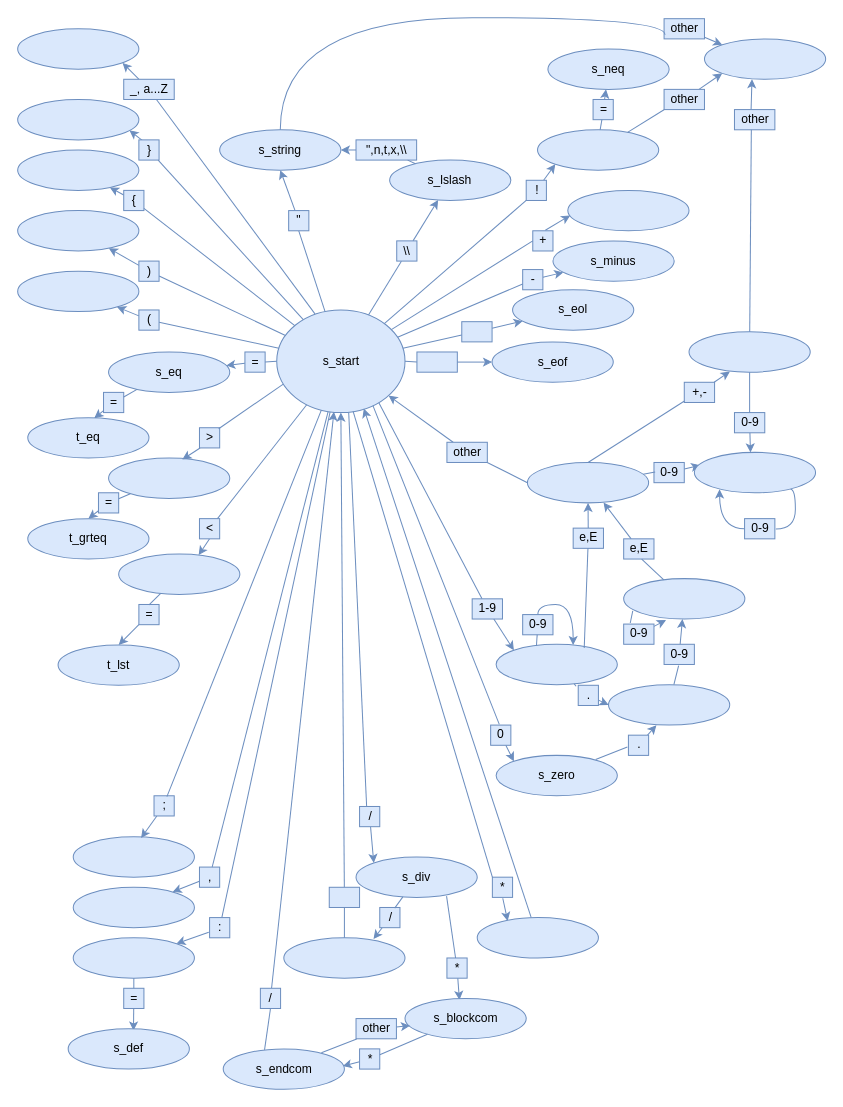
The diagram is 843 pixels wide and 1107 high, and some of its shapes have lost their labels. Each missing label, with the centre of its shape:
/n: pixel 344 896
\n: pixel 476 331
EOF: pixel 436 361
s_colon: pixel 133 957
s_comma: pixel 133 907
s_curll: pixel 78 169
s_curlr: pixel 78 119
s_error: pixel 764 58
s_exp: pixel 587 482
s_exp2: pixel 749 351
s_exp3: pixel 754 472
s_fact: pixel 598 149
s_float: pixel 684 598
s_floatpoint: pixel 669 704
s_grt: pixel 169 477
s_id: pixel 78 48
s_lbra: pixel 78 291
s_linecom: pixel 344 957
s_lst: pixel 179 573
s_mul: pixel 537 937
s_number: pixel 556 664
s_plus: pixel 628 210
s_rbra: pixel 78 230
s_semico: pixel 133 856
